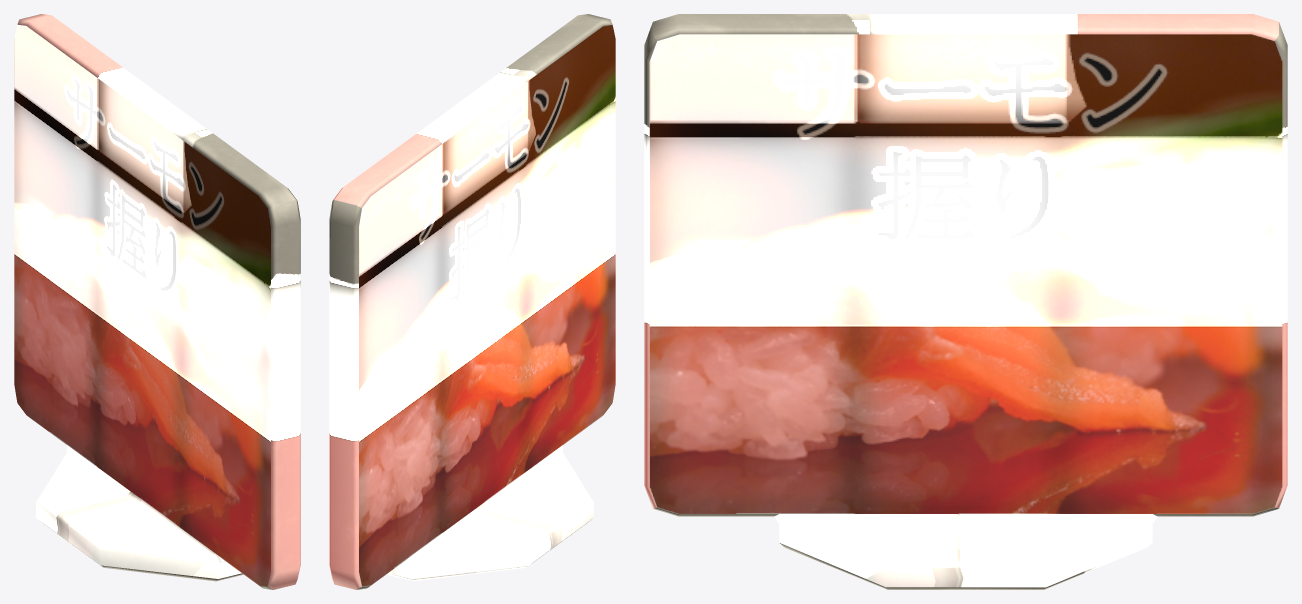
File: SM_Sign_01.fbx
3 views of the same model, side by side, from view 1: azimuth 30°, elevation 25°; view 2: azimuth 150°, elevation 25°; view 3: azimuth 270°, elevation 25° (orthographic). The views are drawn at different scales.
Parts seen in each view (by area): view 1: SM_Sign_01_LOD0; view 2: SM_Sign_01_LOD0; view 3: SM_Sign_01_LOD0.
Boxes of the visible parts, x1=… form: SM_Sign_01_LOD0: x1=14, y1=14, x2=300, y2=589; SM_Sign_01_LOD0: x1=329, y1=14, x2=615, y2=589; SM_Sign_01_LOD0: x1=644, y1=14, x2=1287, y2=589.
Size of the model in its own units: 4.69 by 11.91 by 10.59.
